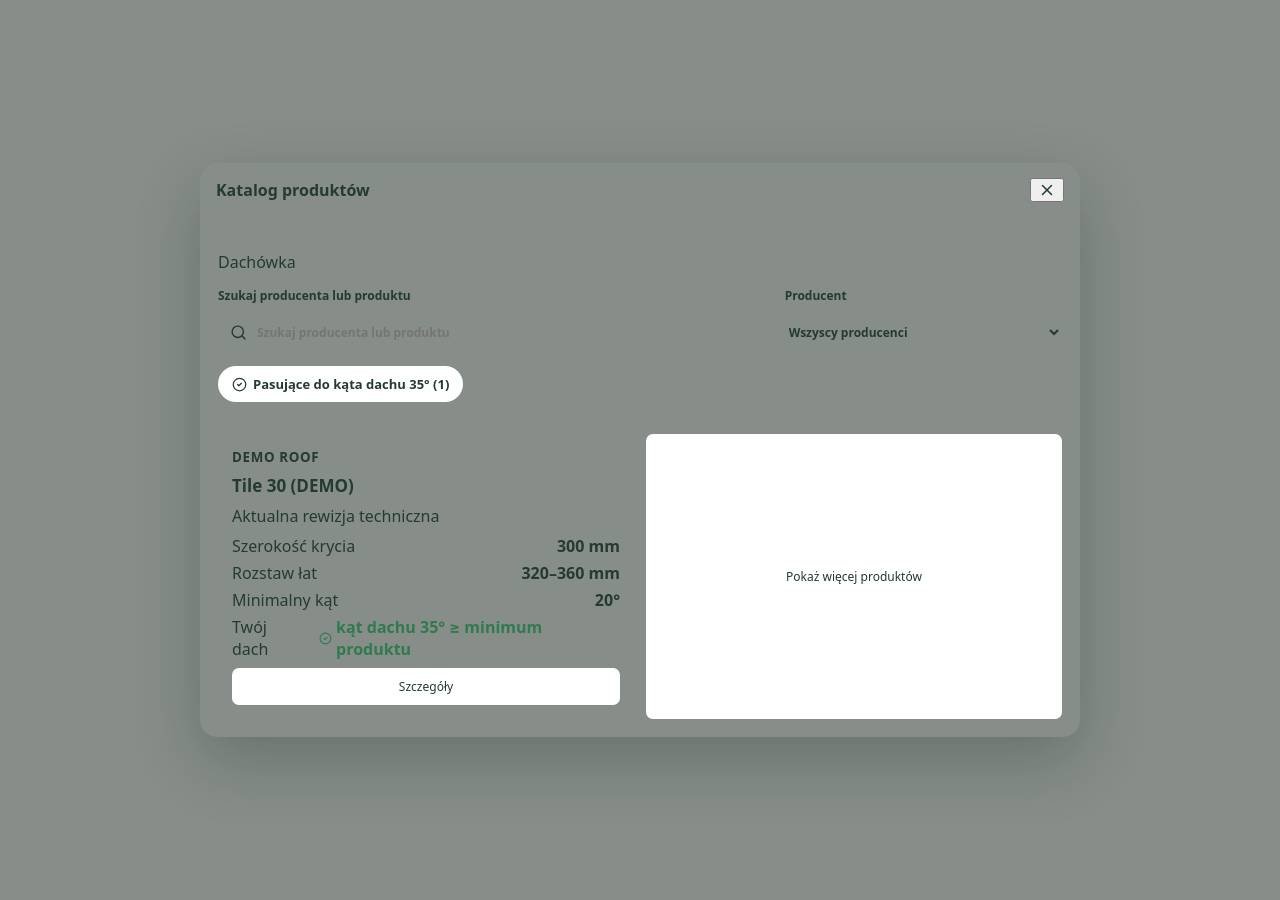
Scenario: catalogue product picker › keeps the covering family visible and pages beyond the first results
Expected: the text "Dachówka" is shown, 218,251 -> 296,273
Expected: the text "Tile 30 (DEMO)" is shown, 232,474 -> 354,497
Click the button "Pokaż więcej produktów": (854, 576) 646,434 -> 1062,719
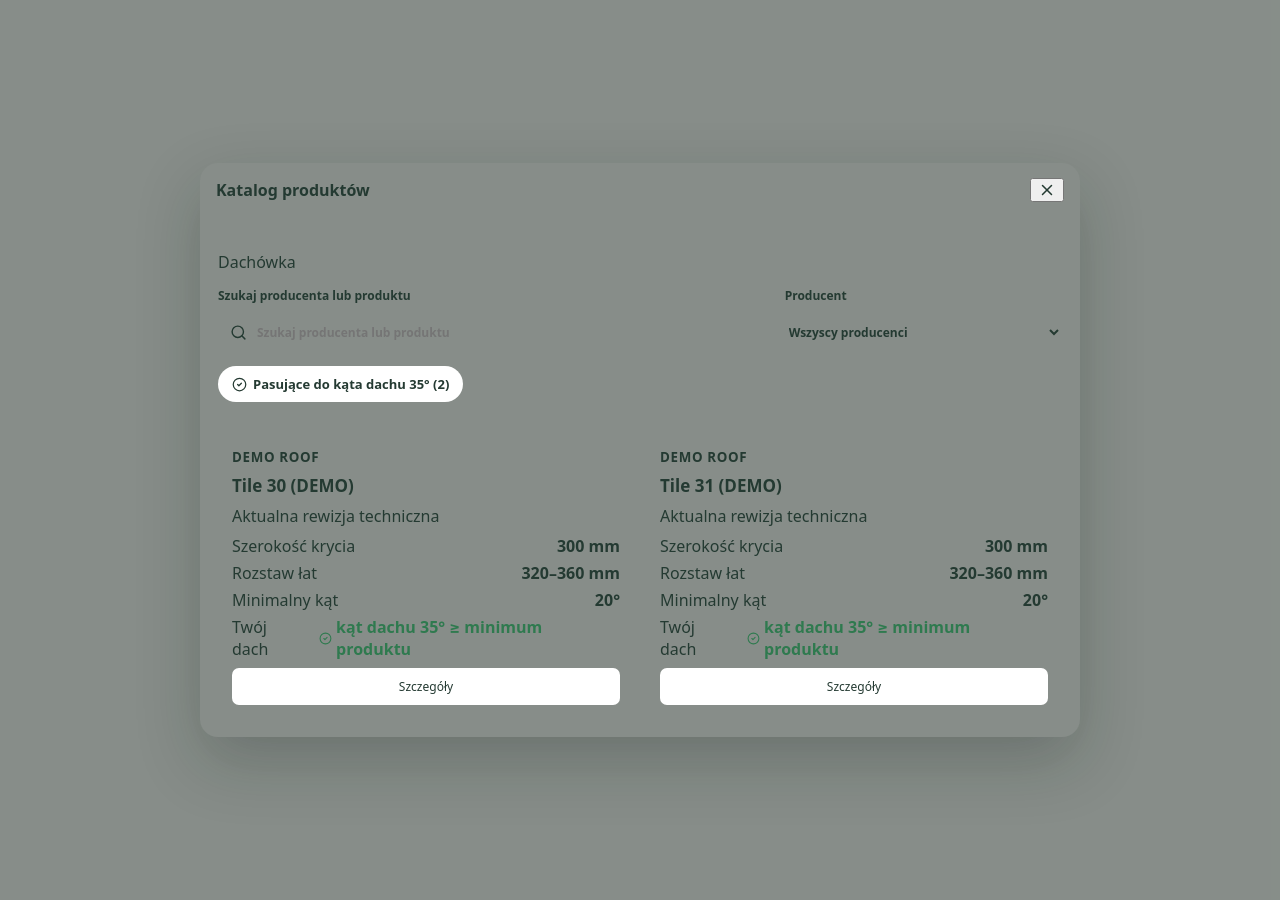
Expected: the text "Tile 31 (DEMO)" is shown, 660,474 -> 782,497
